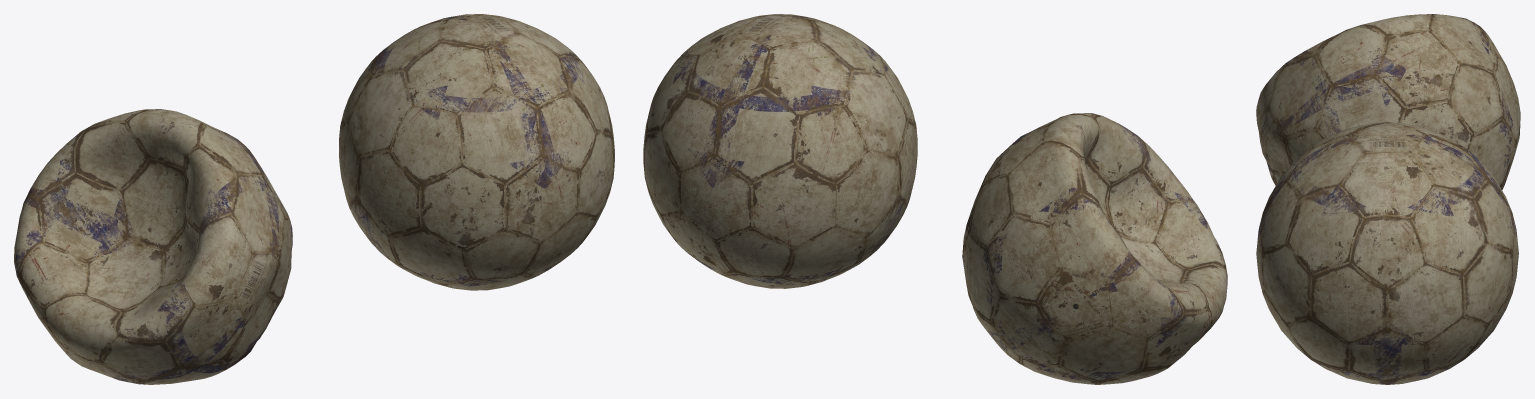
File: football_1k.gltf
The picture shows the model from 3 angles, left to right: view 1: azimuth 30°, elevation 25°; view 2: azimuth 150°, elevation 25°; view 3: azimuth 270°, elevation 25°; orthographic projection. The views are drawn at different scales.
Visible parts, largest first — view 1: football_inflated, football_deflated; view 2: football_inflated, football_deflated; view 3: football_inflated, football_deflated.
Part boxes in pixels (x1,y1,x2,y2): football_inflated: [339, 14, 614, 290]; football_deflated: [14, 109, 292, 384]; football_inflated: [643, 14, 917, 288]; football_deflated: [962, 113, 1227, 384]; football_inflated: [1256, 122, 1518, 384]; football_deflated: [1256, 14, 1520, 189].
Bounding box in the file's own units: 0.5089 × 0.2219 × 0.2222.
Materials: 1 (1 with a texture image).
